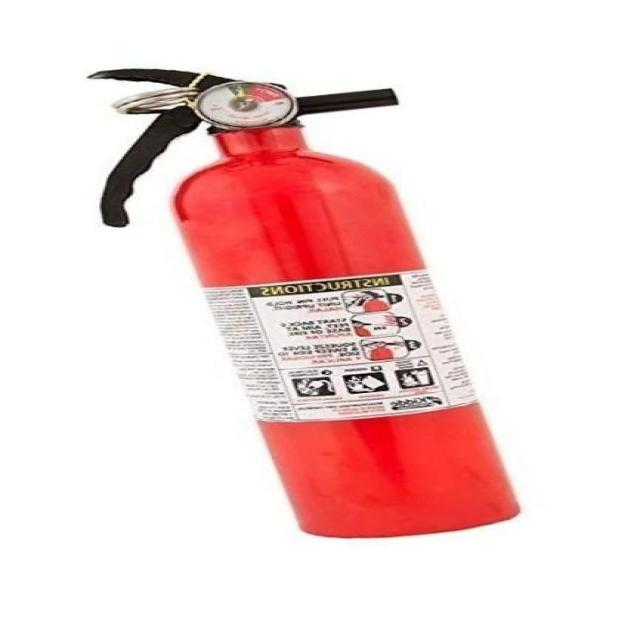fire_extinguisher: (79, 64, 533, 541)
